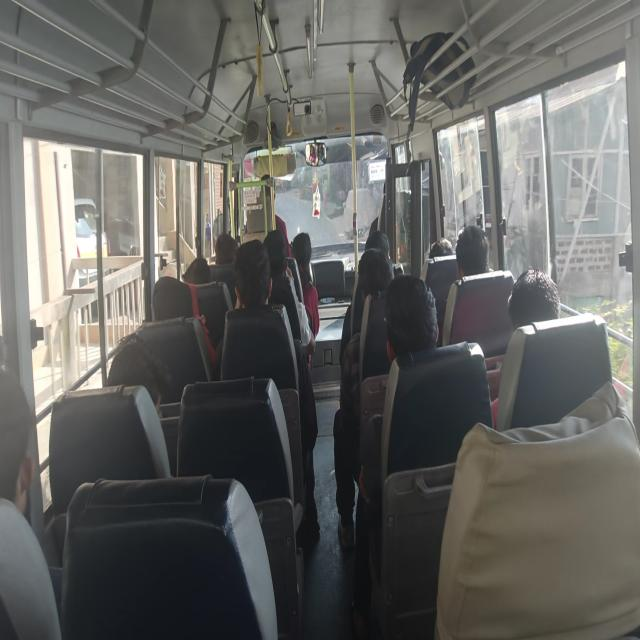person: (434, 380, 640, 638), (352, 273, 439, 636), (218, 238, 320, 541), (333, 245, 395, 551), (0, 364, 61, 638), (489, 267, 561, 427), (262, 228, 316, 369), (151, 256, 220, 364), (340, 230, 394, 366), (440, 224, 492, 345), (384, 274, 439, 362), (507, 267, 561, 330), (291, 231, 320, 338), (455, 224, 490, 278), (182, 257, 211, 284), (214, 232, 238, 264), (429, 237, 453, 258)
